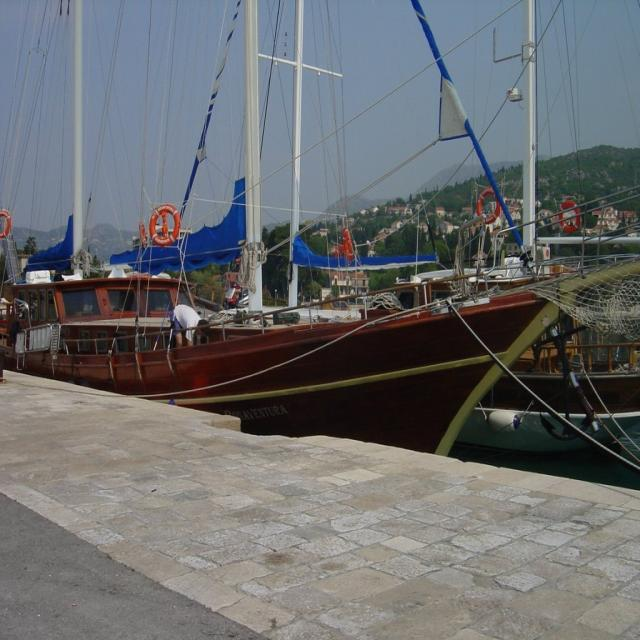Boat: (8, 55, 640, 442)
